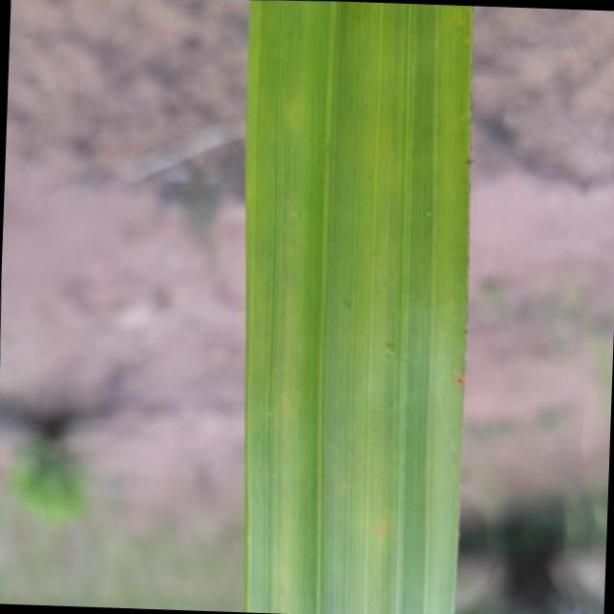nitrogen: (240, 0, 475, 614)
